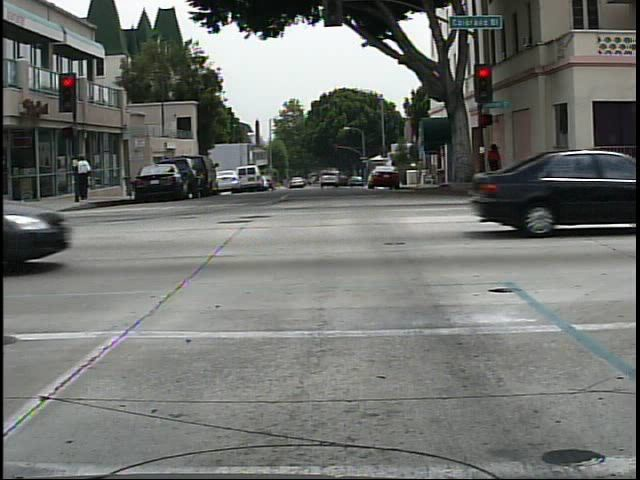person: (480, 138, 510, 191), (79, 150, 98, 202)
